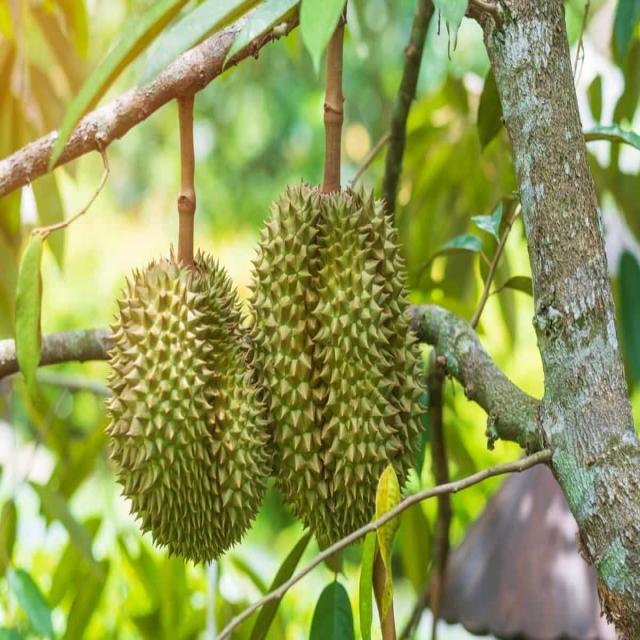immature: (241, 173, 425, 556), (105, 246, 273, 565)
